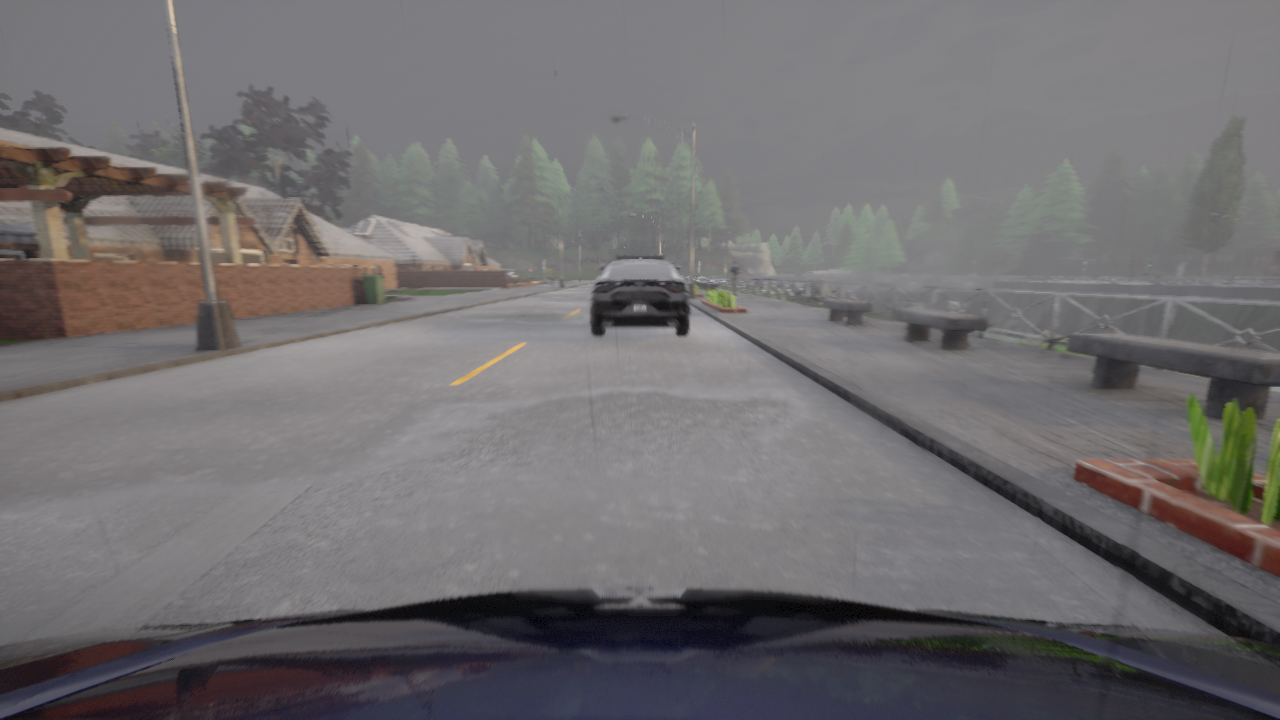cyclist: (0, 588, 1279, 719), (590, 254, 689, 335), (501, 269, 517, 280)
pedestrian: (727, 260, 739, 294), (545, 265, 551, 287), (550, 265, 554, 286)
